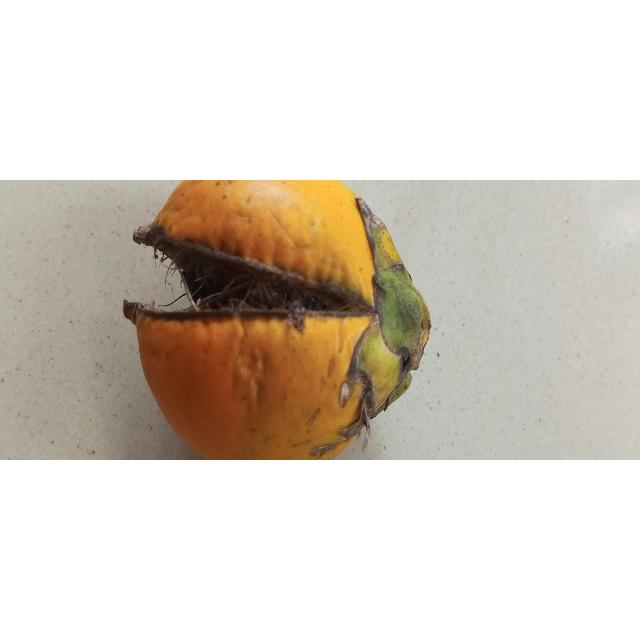damaged: (122, 180, 430, 461)
